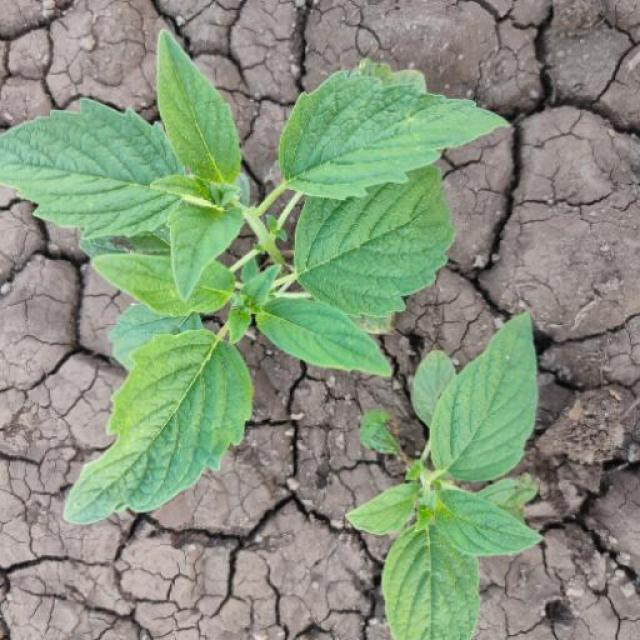crop: (5, 38, 510, 520), (325, 315, 584, 640)
